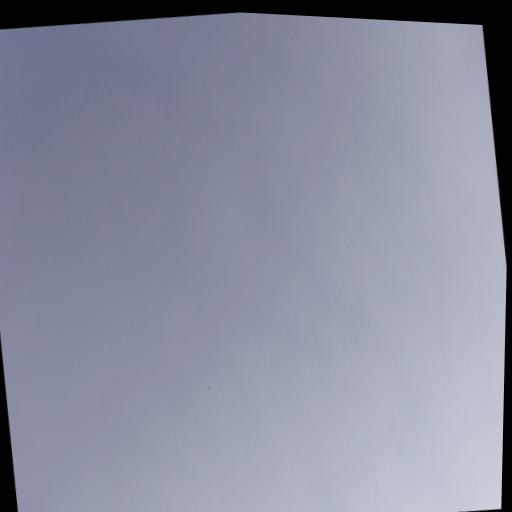drones: (207, 383, 212, 391)
